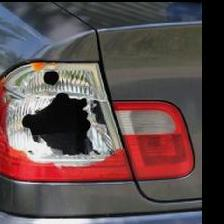tail_lamp: (7, 78, 124, 172)
